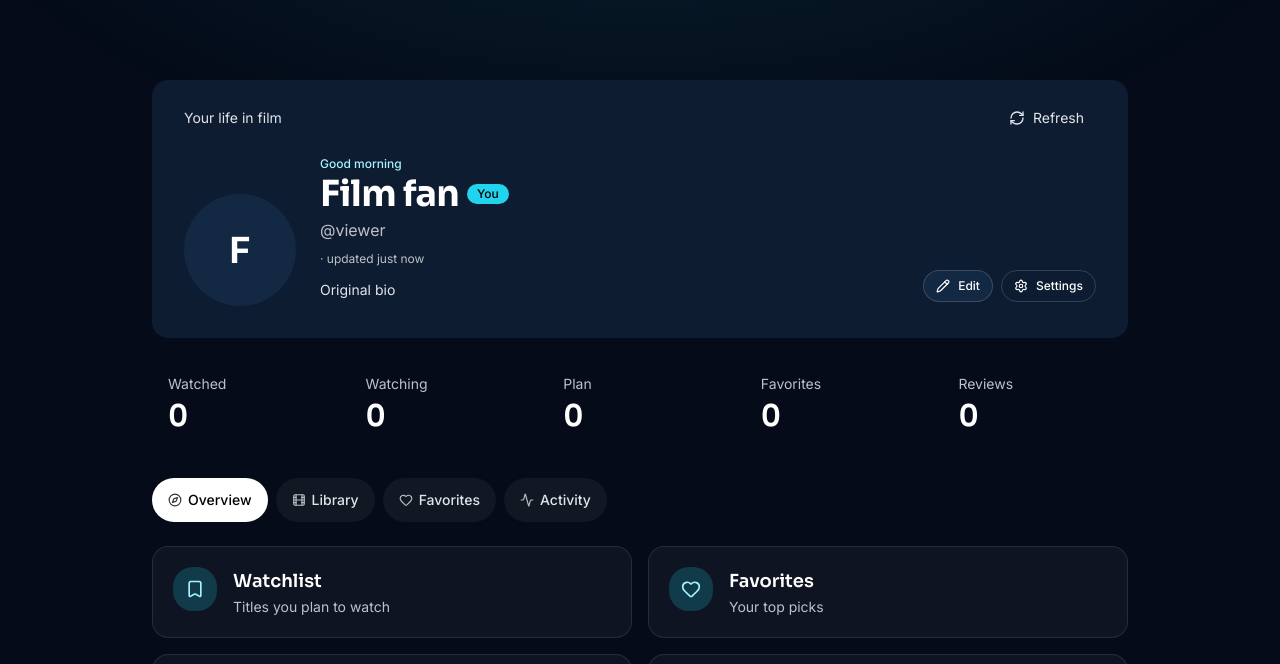
Test: a failed profile save keeps the draft and reports the failure
Check: the heading "Film fan" is shown, box [320, 174, 459, 214]
Click the button "Edit": (958, 286) [923, 270, 993, 302]
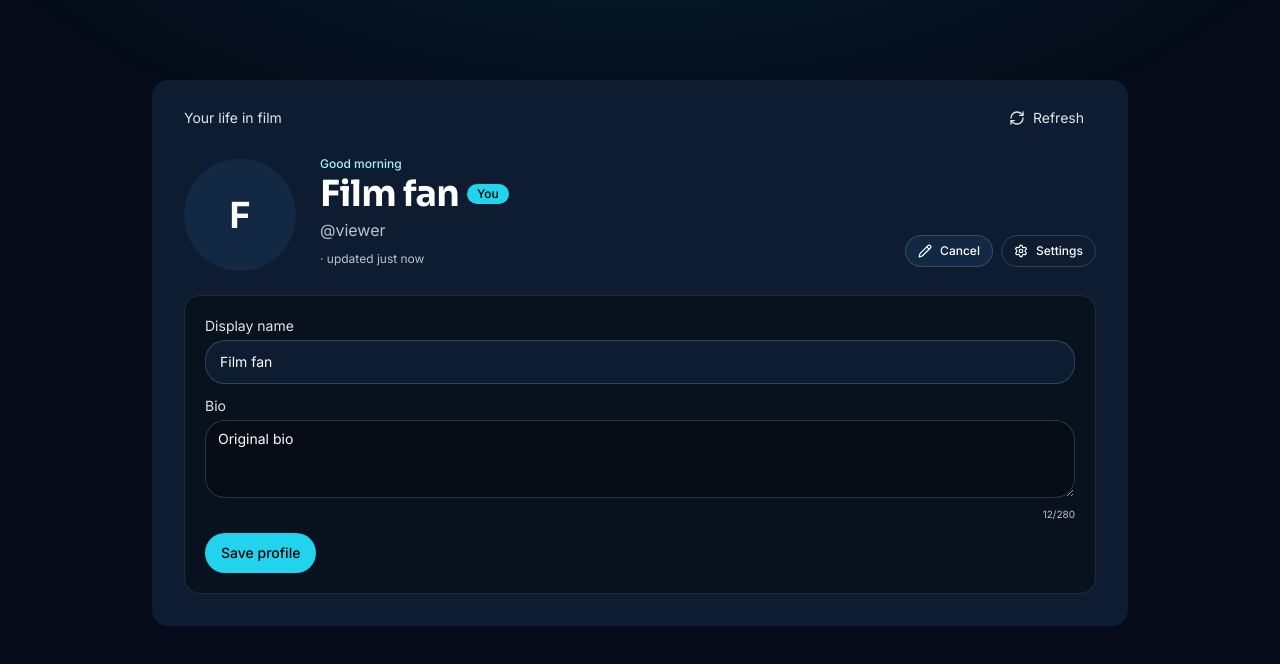
Replace the text in the field labelled "Display name" with "New name": (640, 362) [205, 340, 1075, 384]
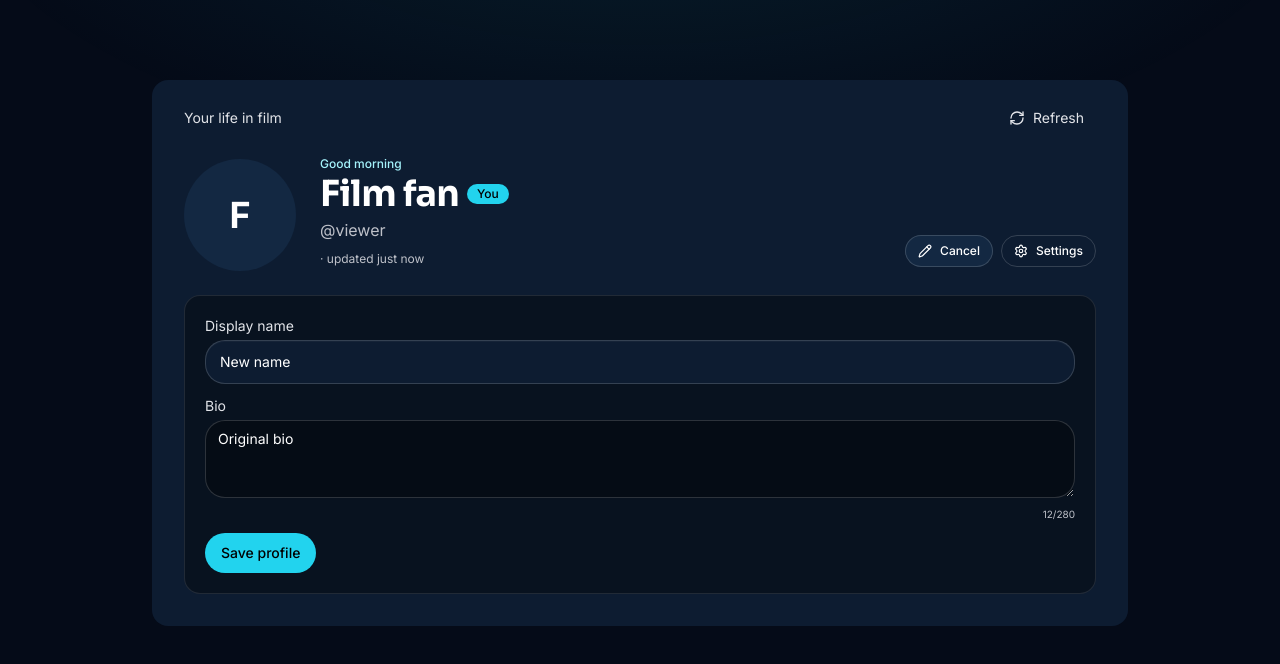
Click the button "Save profile": (261, 553) [205, 533, 316, 573]
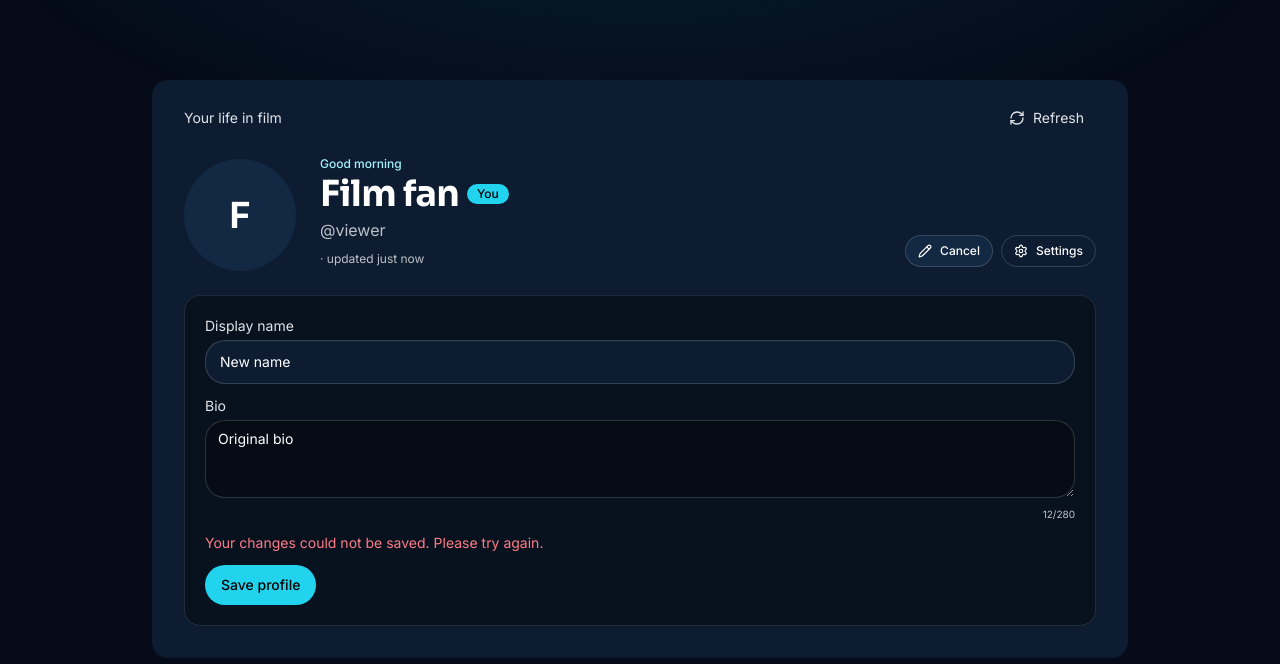
Check: the message shows "could not be saved", box [205, 534, 543, 551]
